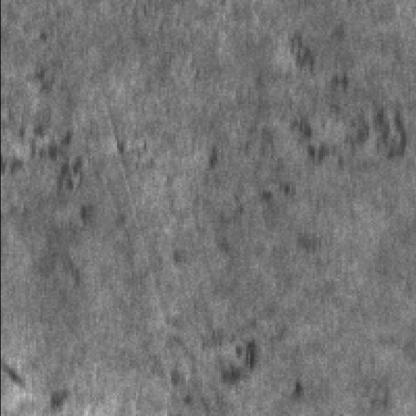rolled-in_scale: (204, 33, 399, 233), (0, 50, 85, 289), (158, 324, 320, 416)
